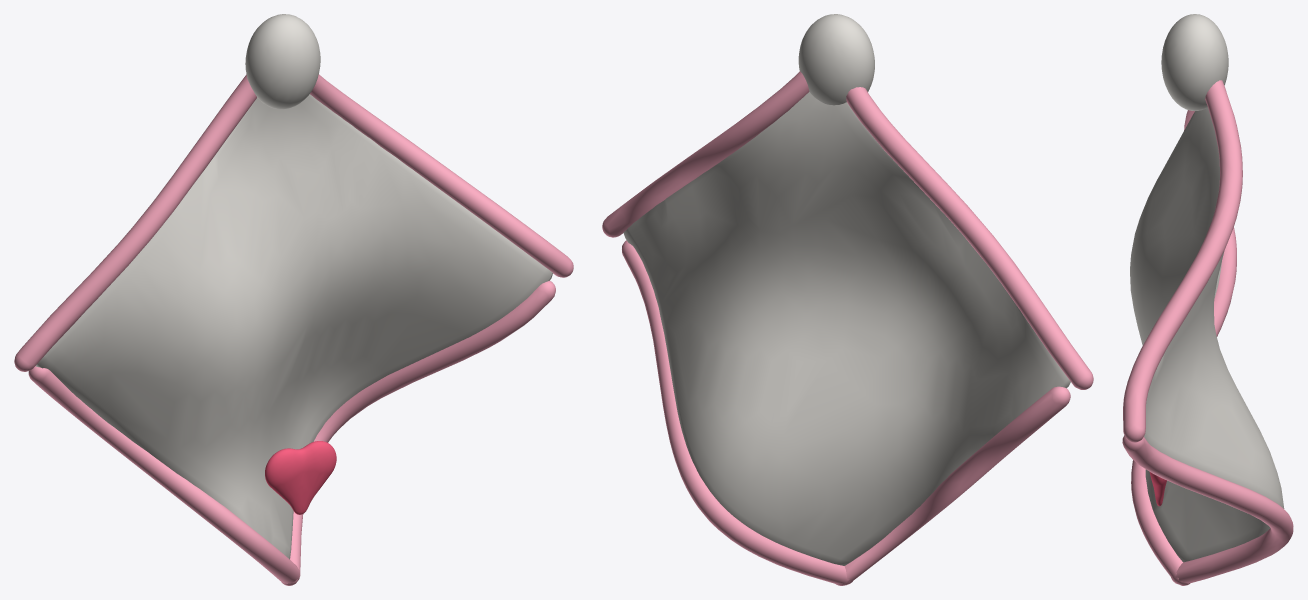
Rendered from reaccion_panuelo.glb.
3 views of the same model, side by side, from view 1: azimuth 30°, elevation 25°; view 2: azimuth 150°, elevation 25°; view 3: azimuth 270°, elevation 25° (orthographic).
Parts seen in each view (by area): view 1: pañuelo, borde pañuelo 3, borde pañuelo 0, borde pañuelo 2, nudo pañuelo, borde pañuelo 1, corazón pañuelo; view 2: pañuelo, borde pañuelo 3, borde pañuelo 1, borde pañuelo 2, borde pañuelo 0, nudo pañuelo; view 3: pañuelo, borde pañuelo 0, borde pañuelo 1, nudo pañuelo, borde pañuelo 2, corazón pañuelo.
Part boxes in pixels (x1,y1,x2,y2): pañuelo: (36,94,552,559); borde pañuelo 3: (14,74,256,371); borde pañuelo 0: (310,74,573,277); borde pañuelo 2: (28,366,300,583); nudo pañuelo: (245,14,320,109); borde pañuelo 1: (281,280,555,585); corazón pañuelo: (265,441,336,514); pañuelo: (623,92,1070,565); borde pañuelo 3: (846,87,1093,389); borde pañuelo 1: (622,240,852,585); borde pañuelo 2: (836,386,1070,585); borde pañuelo 0: (602,71,809,237); nudo pañuelo: (798,14,874,105); pañuelo: (1130,107,1284,562); borde pañuelo 0: (1123,80,1242,442); borde pañuelo 1: (1122,435,1293,583); nudo pañuelo: (1161,14,1228,110); borde pañuelo 2: (1131,227,1236,585); corazón pañuelo: (1149,472,1166,506).
Bounding box in the file's own units: 0.5227 × 0.543 × 0.1483.
